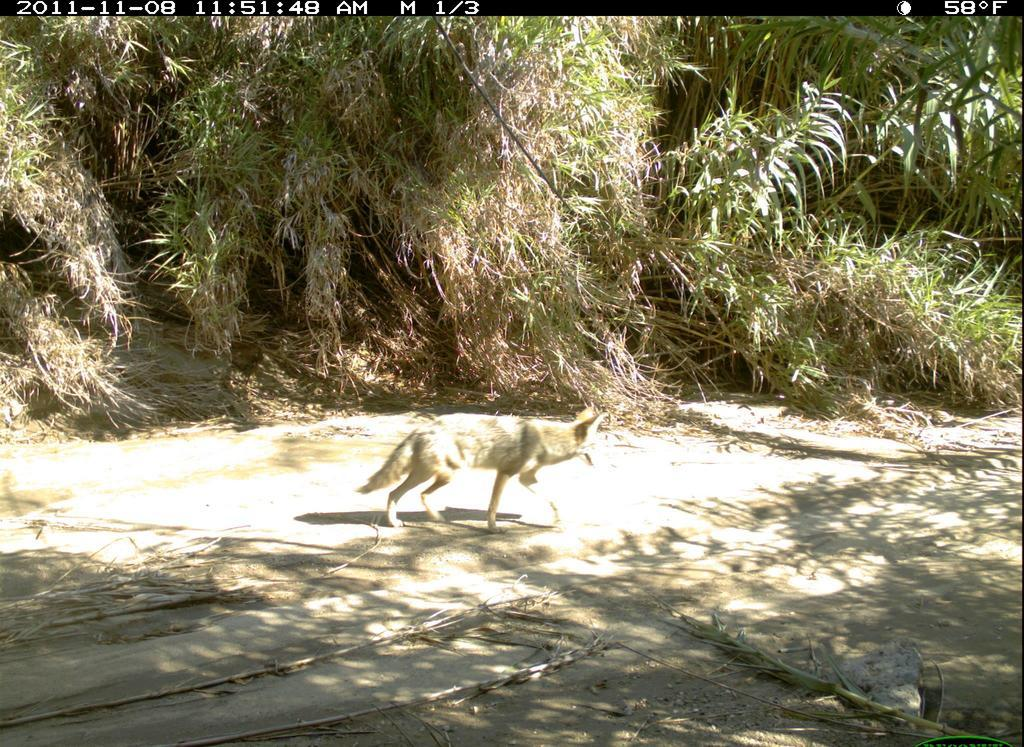coyote: (354, 397, 616, 539)
